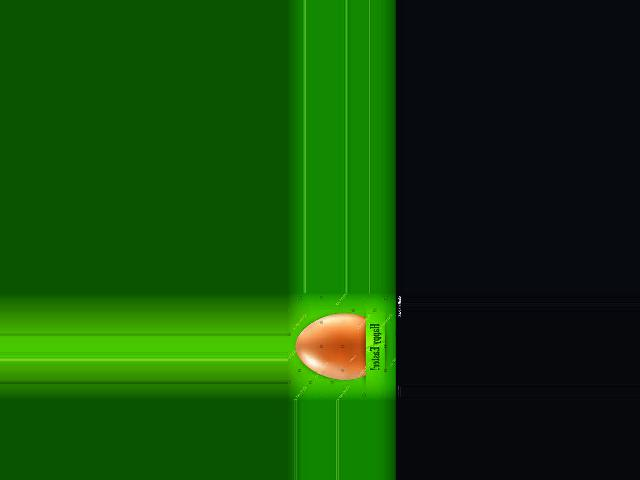egg: (295, 313, 365, 380)
